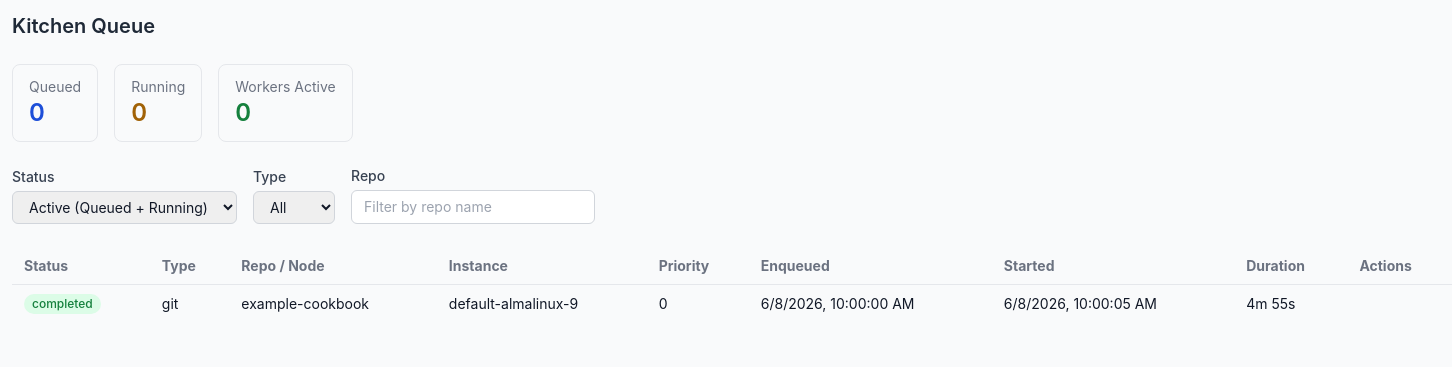
Test: KitchenQueuePage — completed-job output › shows 'No output available' when the detail has no output
This screenshot has width=1452, height=367.
What coordinates should you click on to do the following:
click the text "example-cookbook"
I would click on:
 (333, 303)
Its box is [229,284,437,322].
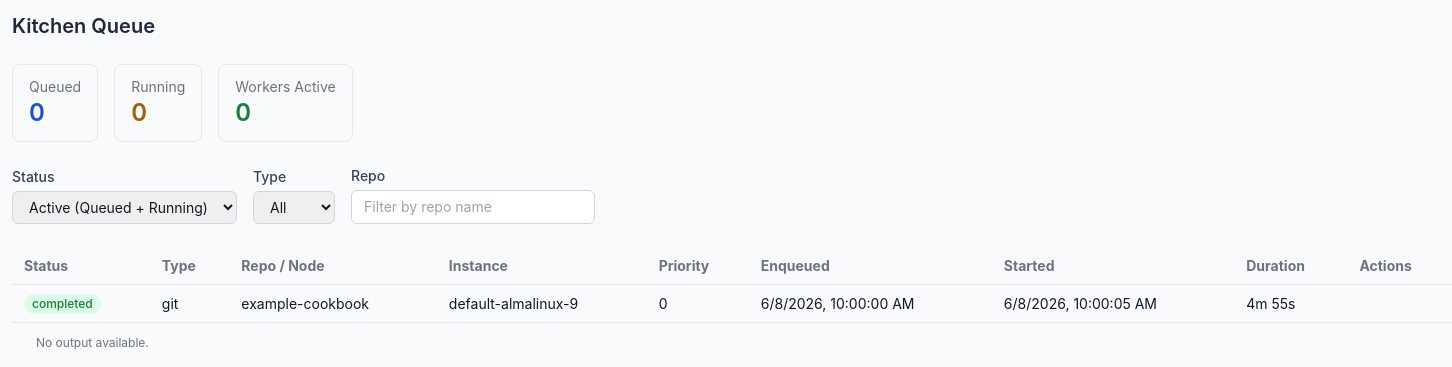
Check: the text "No output available." is shown, box [36,335,149,350]
